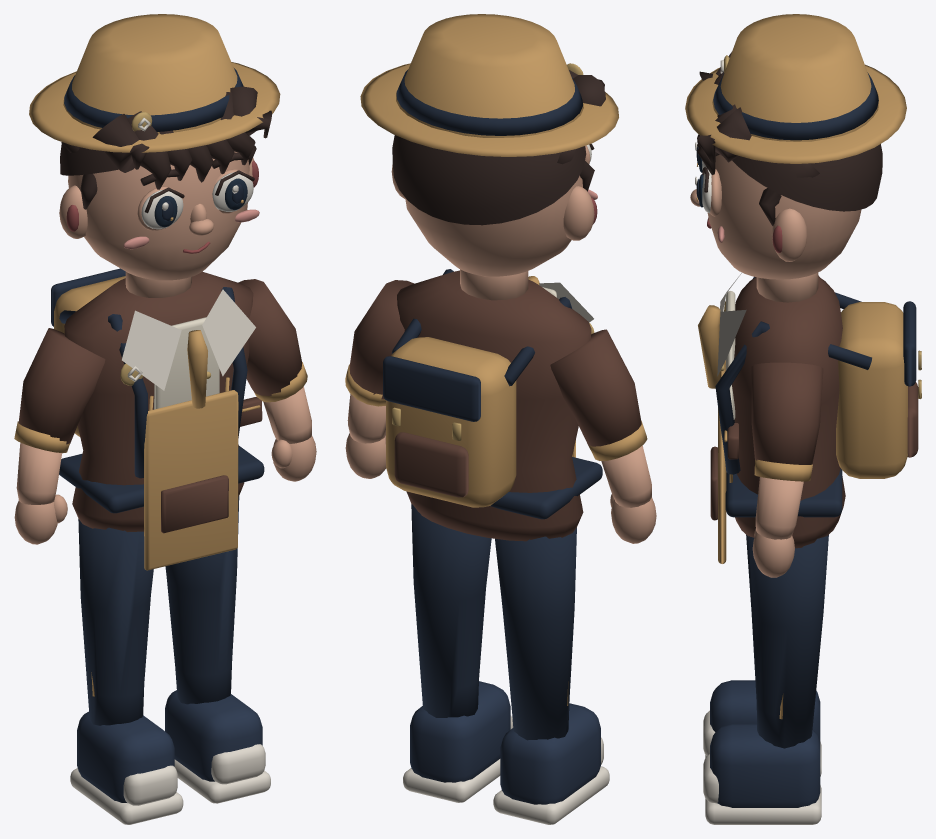
Rendered from trainer_merchant.glb.
3 views of the same model, side by side, from view 1: azimuth 30°, elevation 25°; view 2: azimuth 150°, elevation 25°; view 3: azimuth 270°, elevation 25° (orthographic). The views are drawn at different scales.
Visible parts, largest first — view 1: figure.008; view 2: figure.008; view 3: figure.008.
Boxes of the visible parts, left/top/right/bottom form: figure.008: left=14, top=14, right=316, bottom=824; figure.008: left=345, top=14, right=656, bottom=824; figure.008: left=685, top=14, right=921, bottom=824.
Bounding box in the file's own units: 1.05 × 2.5 × 0.7126.
